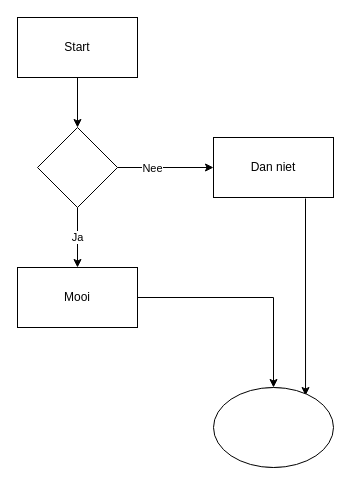
The diagram is 351 pixels wide and 485 high, and some of its shapes have lost their labels. The centre of each missing label's shape, as x and y in pixels:
"Ja of Nee?" belongs at (77,167).
"Klaar" belongs at (273,427).
